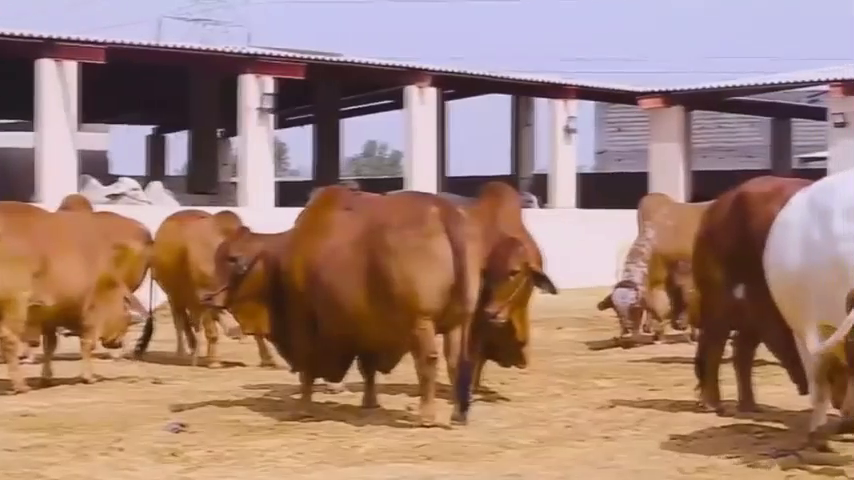bo: (187, 177, 470, 435), (679, 157, 852, 456), (440, 149, 566, 408), (5, 187, 140, 383), (147, 190, 284, 377), (581, 172, 694, 359)
